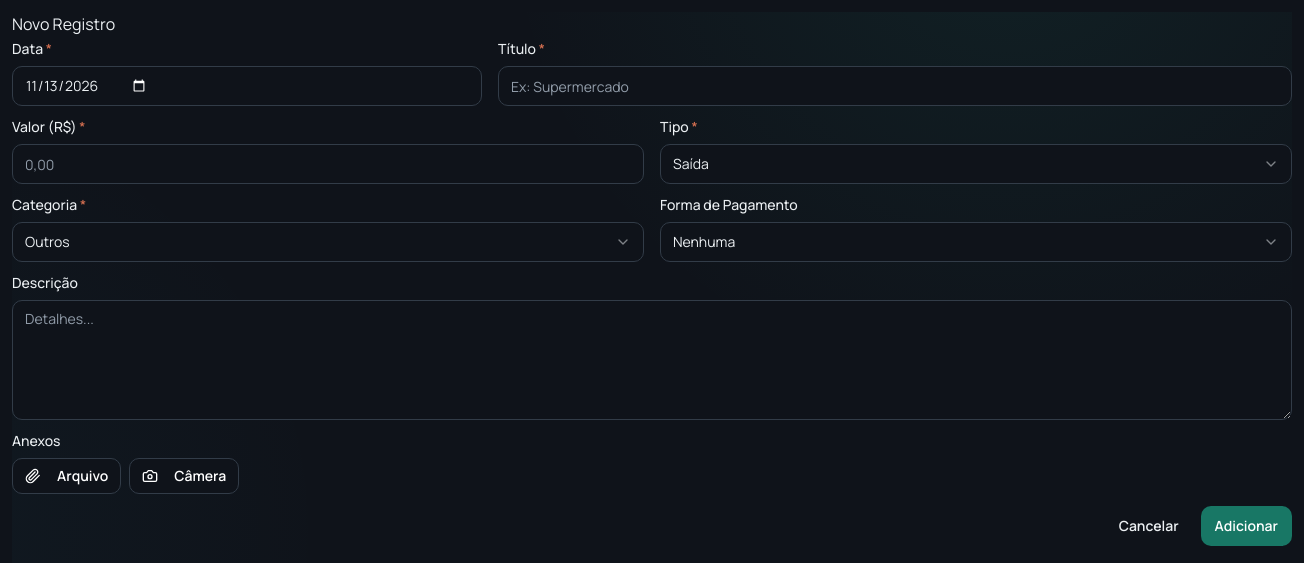
TransactionForm duplicate submission protection › submits only once while save is pending and allows retry after failure
Later steps or results of the test are not shown.
Type "Compra" into the field with placeholder "Ex: Supermercado" at (895, 86), box [498,66,1292,106]
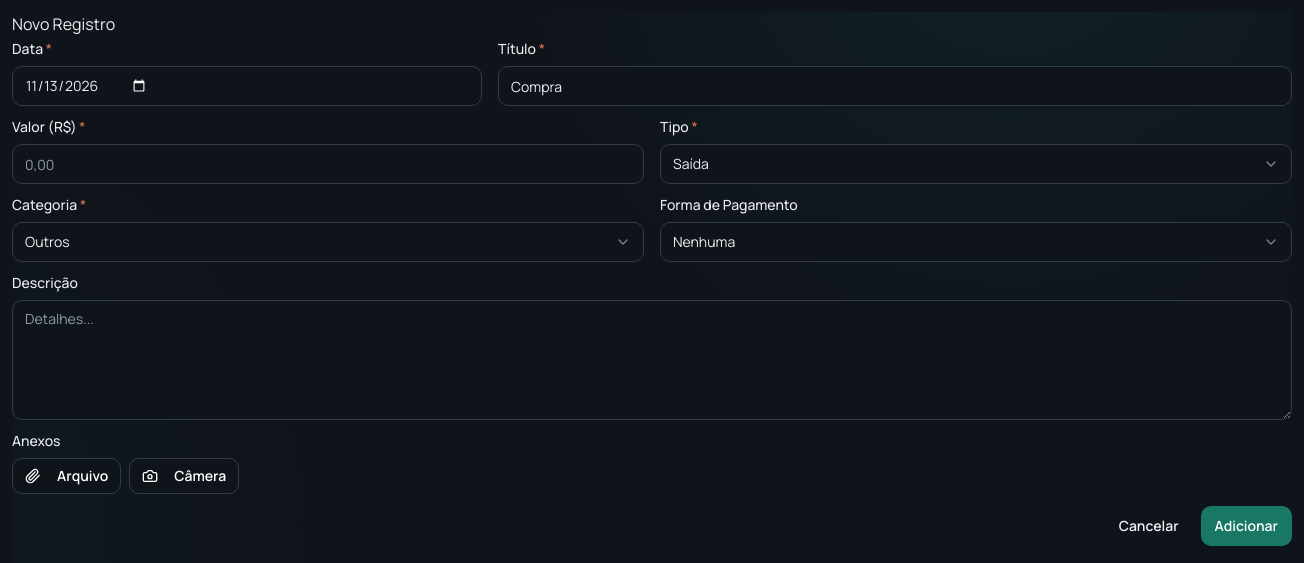
Type "25" into the number field with placeholder "0,00" at (328, 164), box [12,144,644,184]
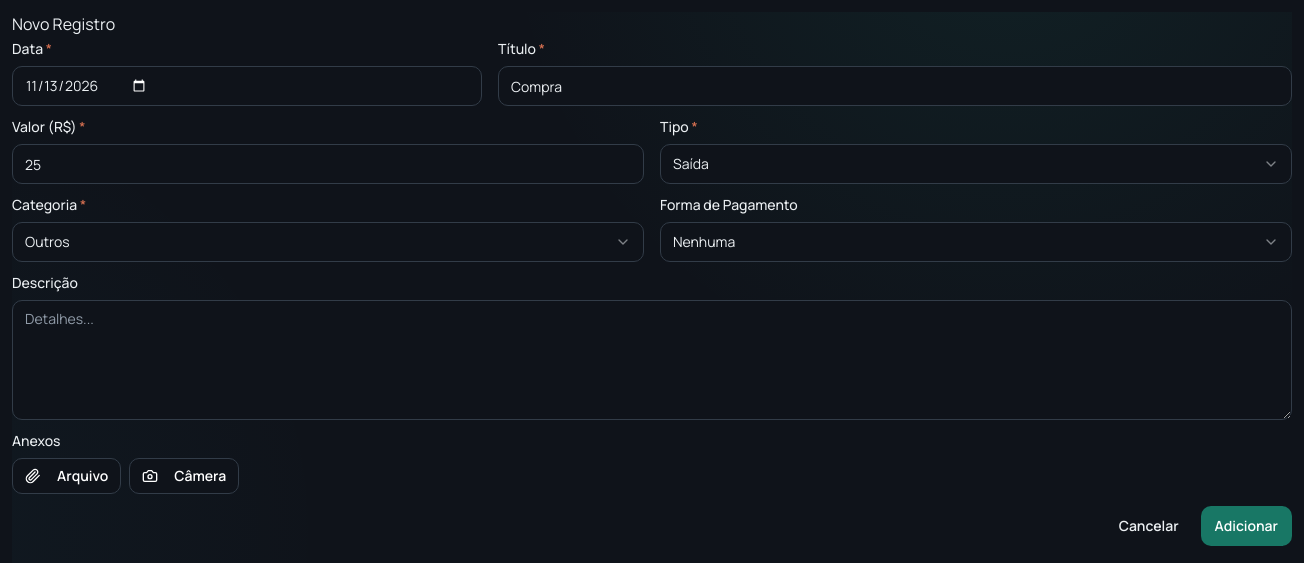
Click the button "Adicionar" at (1246, 526), box [1201,506,1292,546]
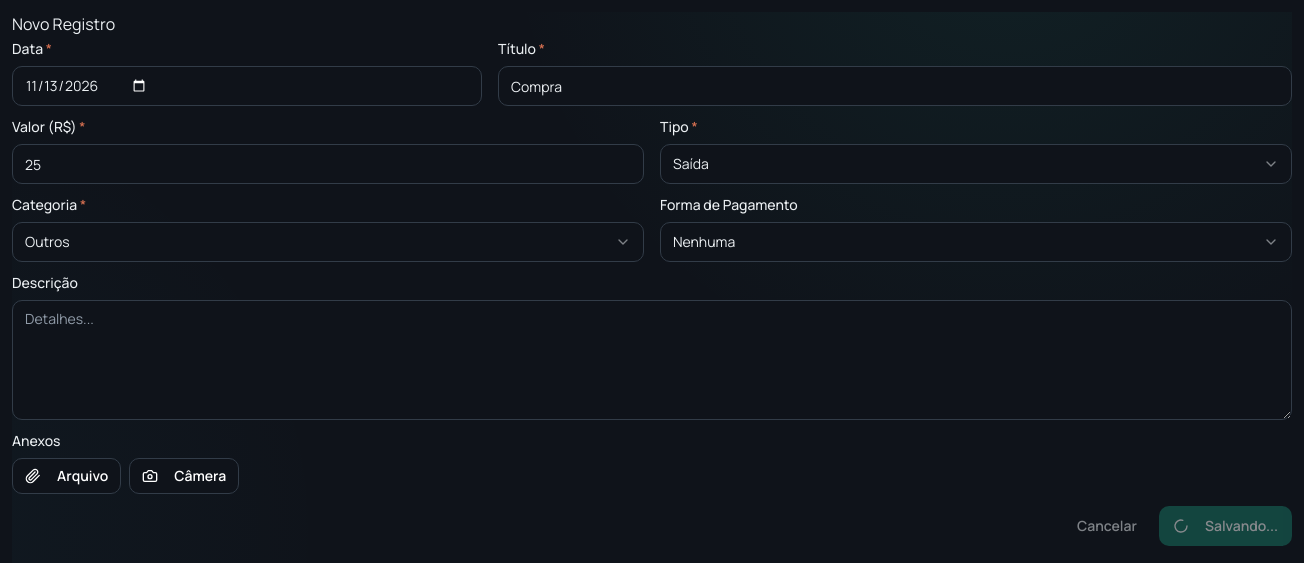
Submit the form
Submit the form
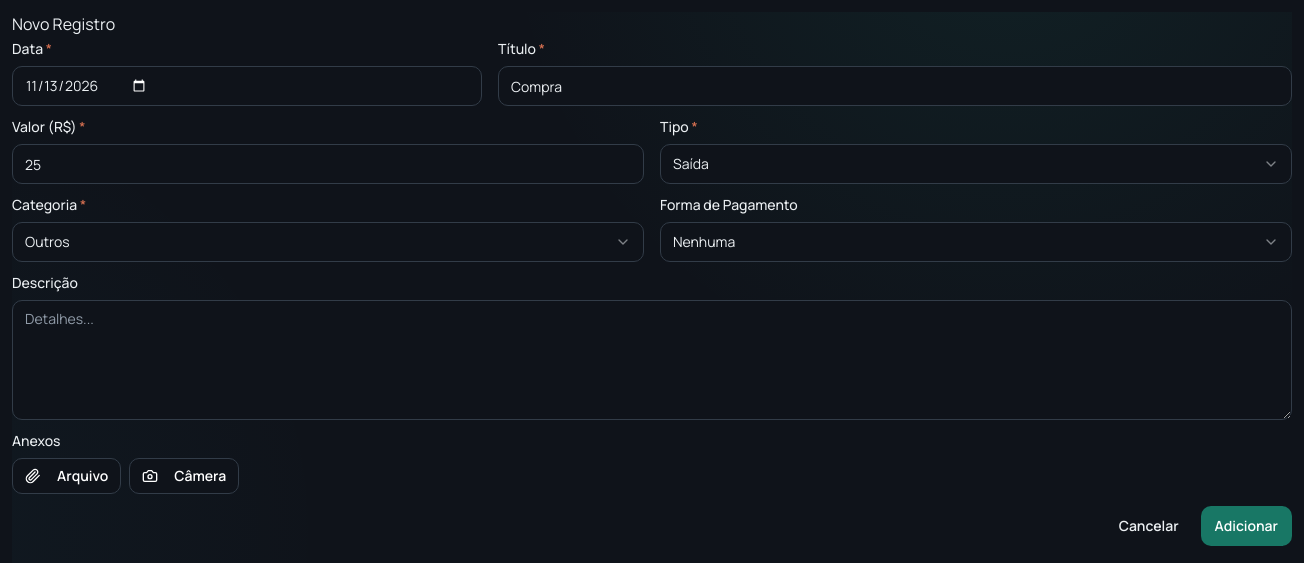
Result: the button "Adicionar" is enabled at [1201,506,1292,546]
